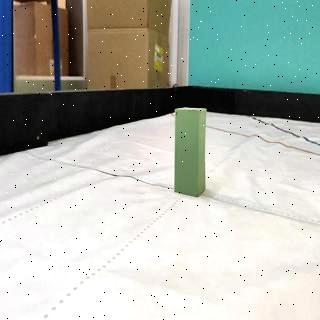greenbox: (173, 104, 206, 198)
